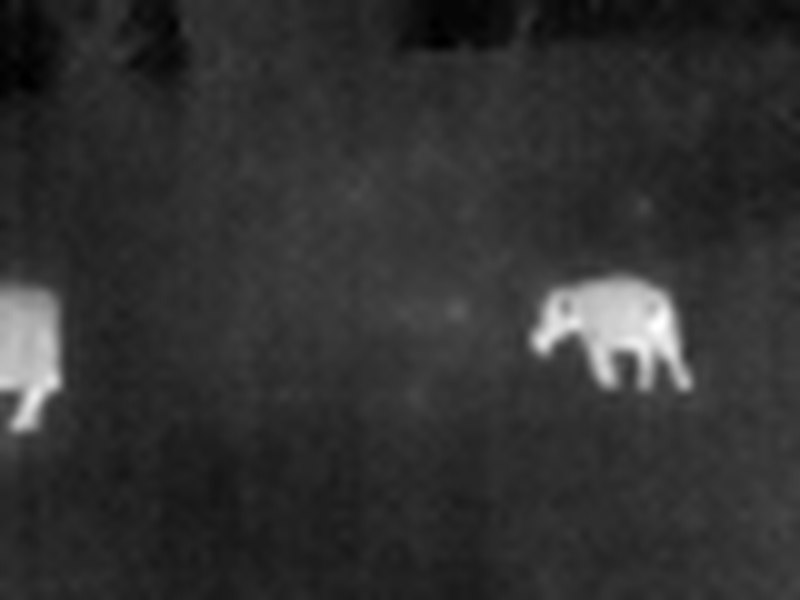elephant: (522, 270, 735, 456), (1, 284, 74, 438)
